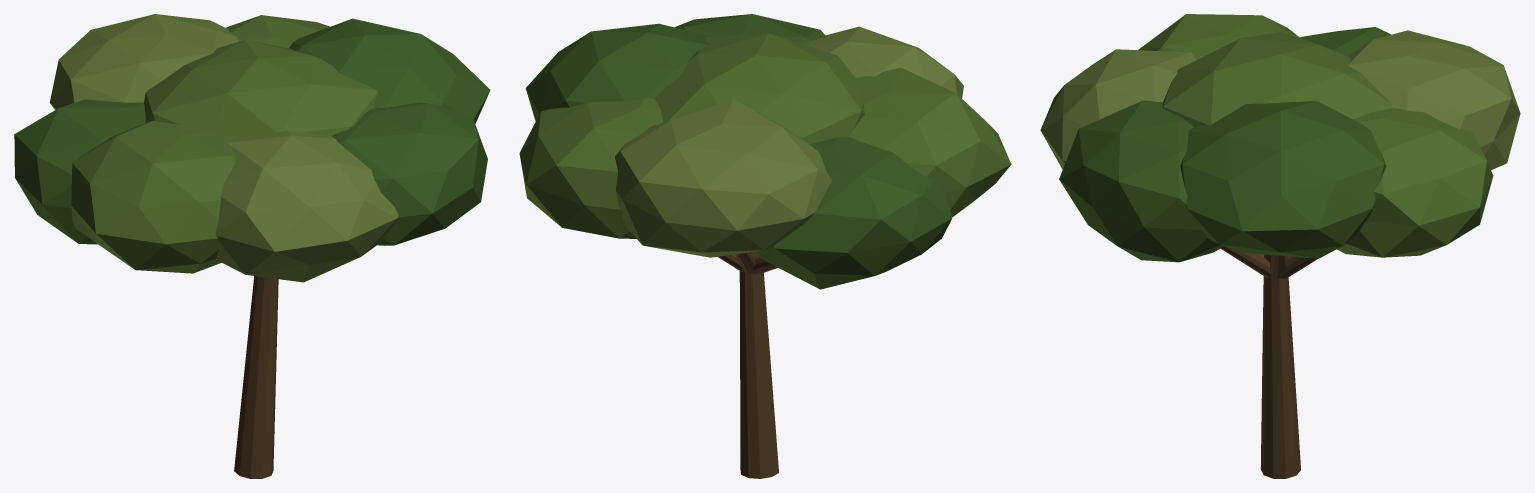
File: tree_umbrella_pine.glb
3 views of the same model, side by side, from view 1: azimuth 30°, elevation 25°; view 2: azimuth 150°, elevation 25°; view 3: azimuth 270°, elevation 25° (orthographic).
Parts seen in each view (by area): view 1: Foliage crown.005, Foliage crown.004, Foliage crown.007, Foliage crown.006, Foliage crown.002, Foliage crown, Foliage crown.003, Bark branch, Foliage crown.001; view 2: Foliage crown.002, Foliage crown.003, Foliage crown.007, Foliage crown.004, Foliage crown.001, Foliage crown, Bark branch, Foliage crown.005, Foliage crown.006; view 3: Foliage crown, Foliage crown.006, Foliage crown.001, Foliage crown.007, Foliage crown.002, Foliage crown.005, Bark branch, Foliage crown.004, Foliage crown.003, Bark branch.008.
Boxes of the visible parts, <box> form: Foliage crown.005: <box>215,130,398,282</box>; Foliage crown.004: <box>71,120,236,273</box>; Foliage crown.007: <box>144,40,377,138</box>; Foliage crown.006: <box>331,102,487,245</box>; Foliage crown.002: <box>49,14,238,109</box>; Foliage crown: <box>289,18,490,123</box>; Foliage crown.003: <box>14,99,145,244</box>; Bark branch: <box>234,276,278,478</box>; Foliage crown.001: <box>225,15,329,48</box>; Foliage crown.002: <box>615,99,831,257</box>; Foliage crown.003: <box>755,136,952,289</box>; Foliage crown.007: <box>655,33,864,144</box>; Foliage crown.004: <box>848,67,1011,217</box>; Foliage crown.001: <box>519,98,663,238</box>; Foliage crown: <box>525,23,711,121</box>; Bark branch: <box>739,251,778,478</box>; Foliage crown.005: <box>804,26,963,98</box>; Foliage crown.006: <box>674,14,825,44</box>; Foliage crown: <box>1180,101,1386,258</box>; Foliage crown.006: <box>1059,100,1223,262</box>; Foliage crown.001: <box>1337,108,1493,257</box>; Foliage crown.007: <box>1162,32,1392,127</box>; Foliage crown.002: <box>1348,30,1520,169</box>; Foliage crown.005: <box>1040,49,1196,169</box>; Bark branch: <box>1260,254,1300,478</box>; Foliage crown.004: <box>1138,14,1299,59</box>; Foliage crown.003: <box>1299,27,1390,54</box>; Bark branch.008: <box>1220,246,1271,277</box>.
Bounding box in the file's own units: 1025 × 959 × 997.
